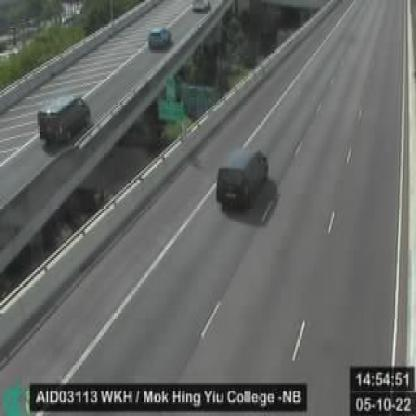Car: (217, 147, 268, 208), (39, 96, 88, 148), (150, 26, 171, 49)
